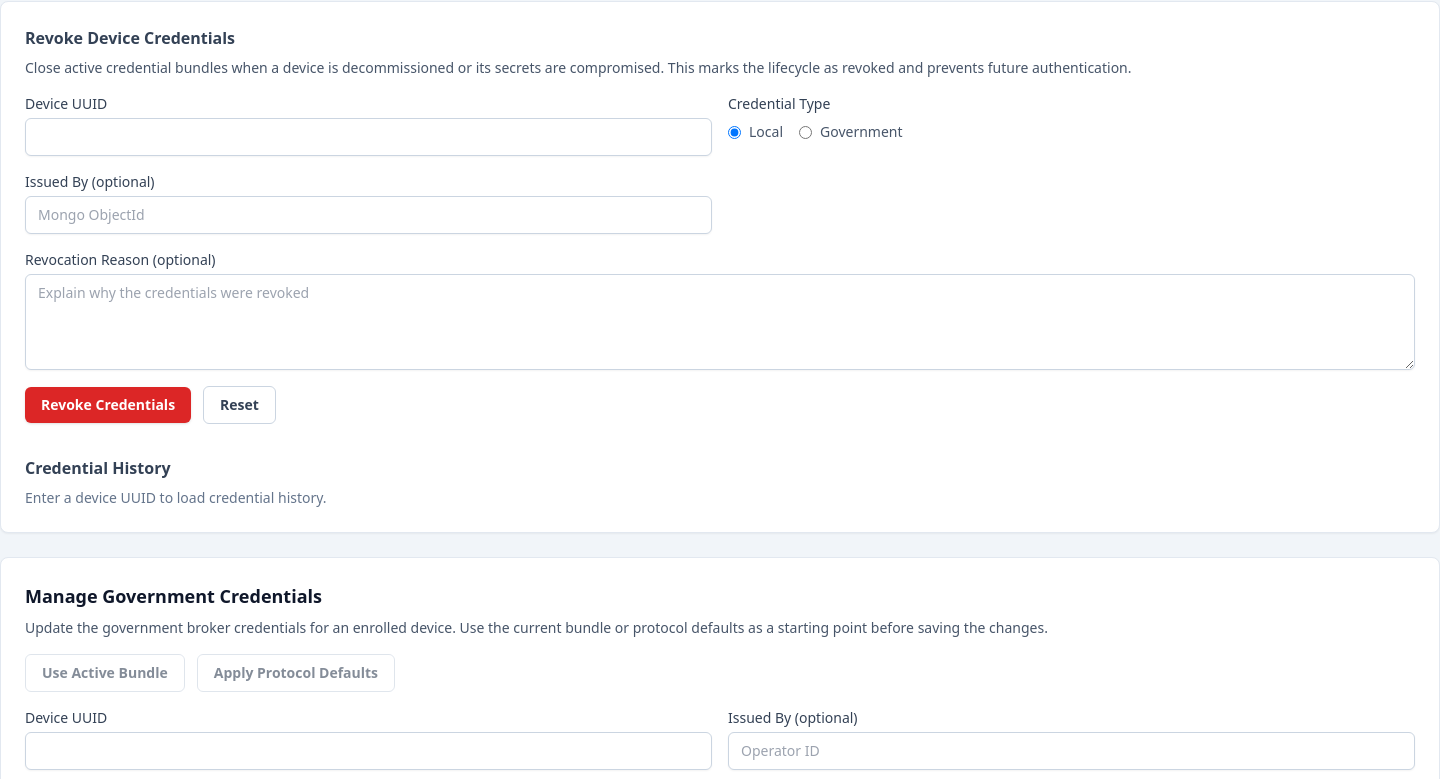
Scenario: DeviceConfigurationPage credential revocation › requires a device UUID before revoking credentials
(page scrolled)
Click the button "Revoke Credentials" at [108, 405], box [25,387,191,423]
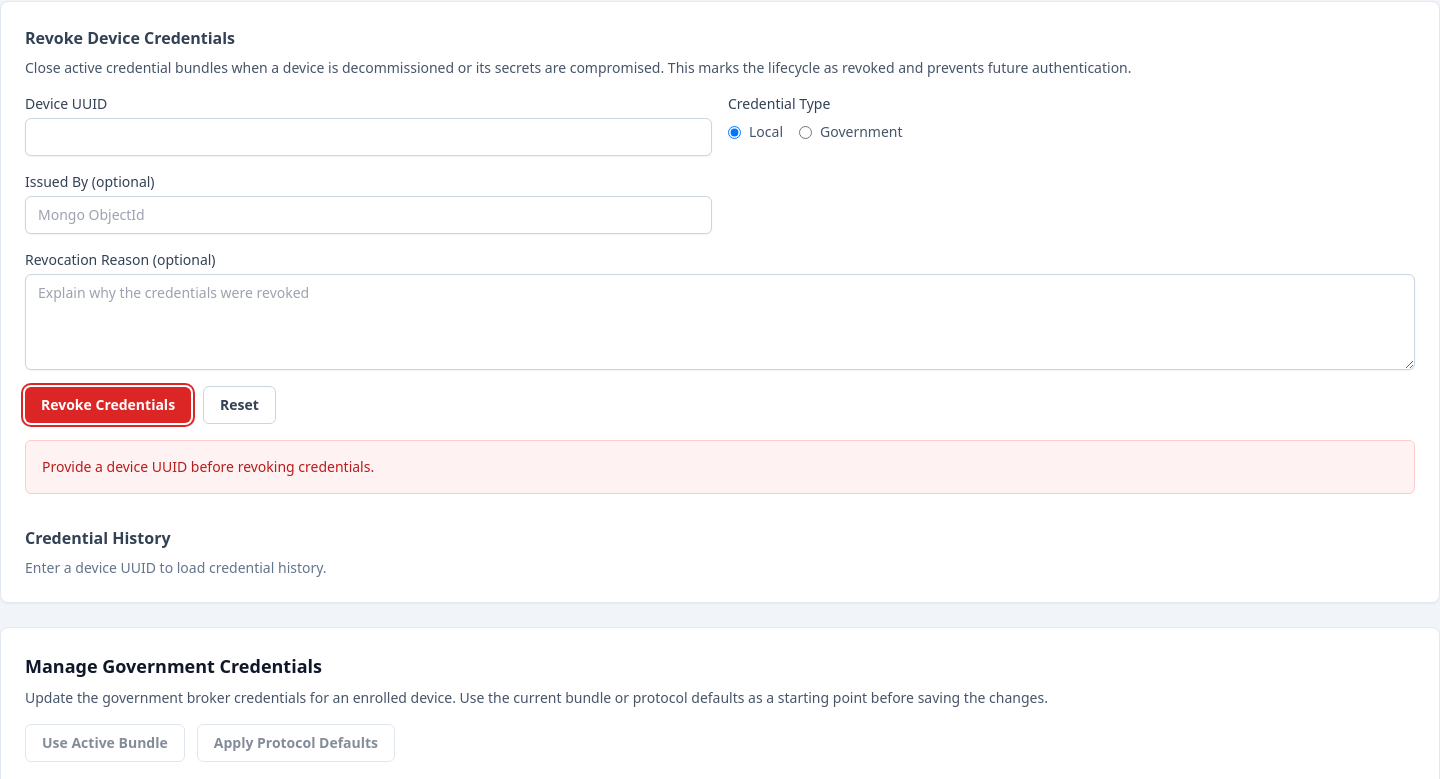
Expected: the text "Provide a device UUID before revoking credentials." is shown, [25,440,1415,494]
